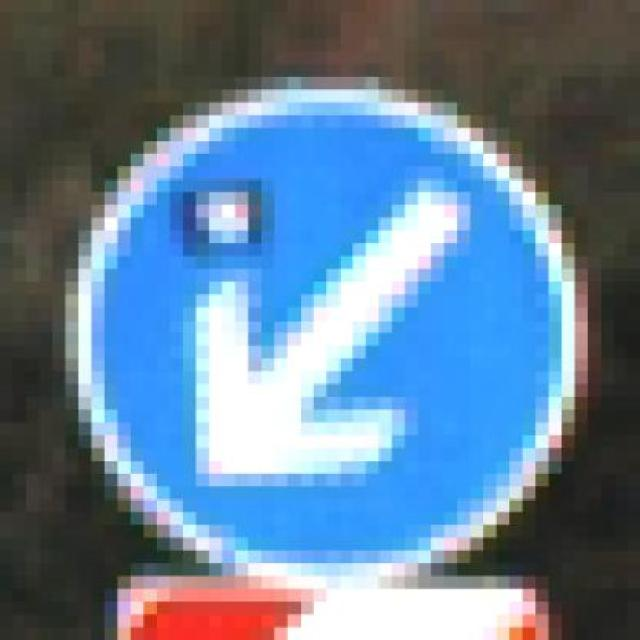Keep-Left: (65, 51, 601, 589)
